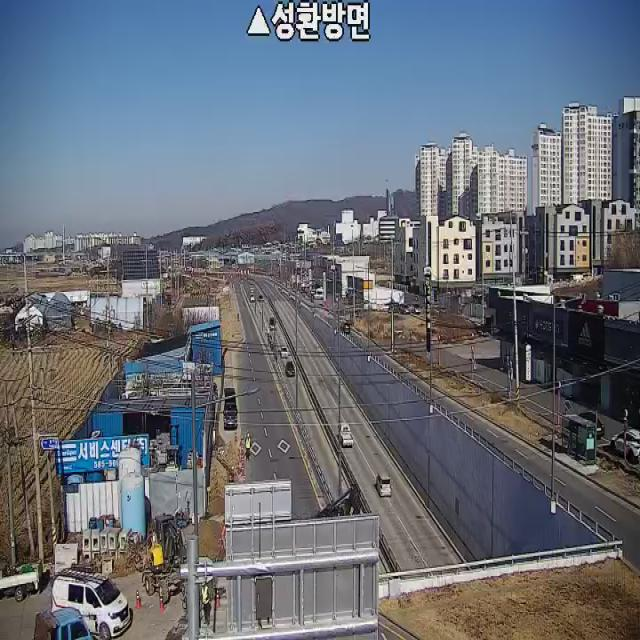Car: (52, 564, 132, 640), (611, 429, 640, 465), (574, 411, 606, 441), (376, 472, 391, 497), (286, 361, 296, 377), (340, 321, 350, 334), (280, 345, 288, 358), (270, 317, 276, 331)
Truck: (134, 498, 192, 605), (34, 607, 99, 640), (0, 558, 43, 602), (223, 388, 237, 428), (341, 424, 353, 446)
